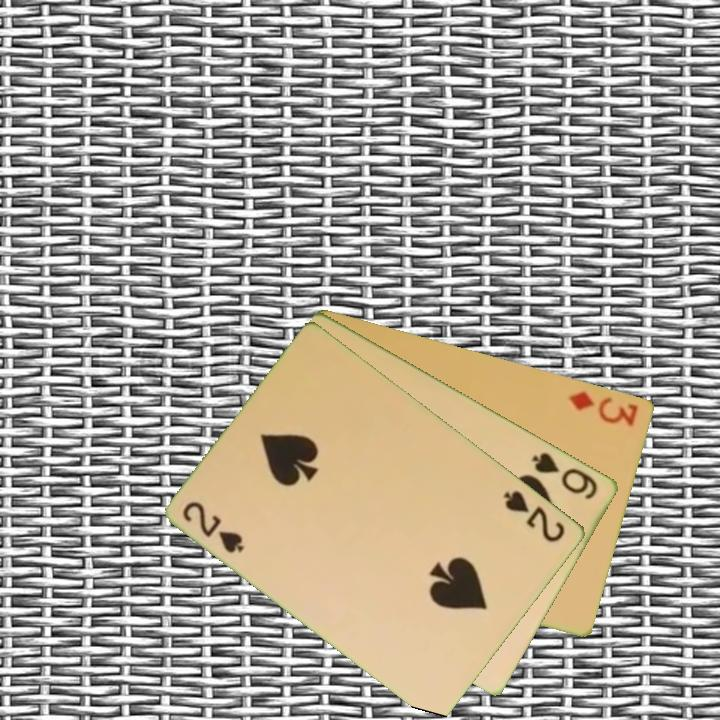2s: (500, 486, 569, 546), (179, 497, 248, 557)
3d: (566, 386, 642, 429)
6s: (528, 448, 601, 502)
